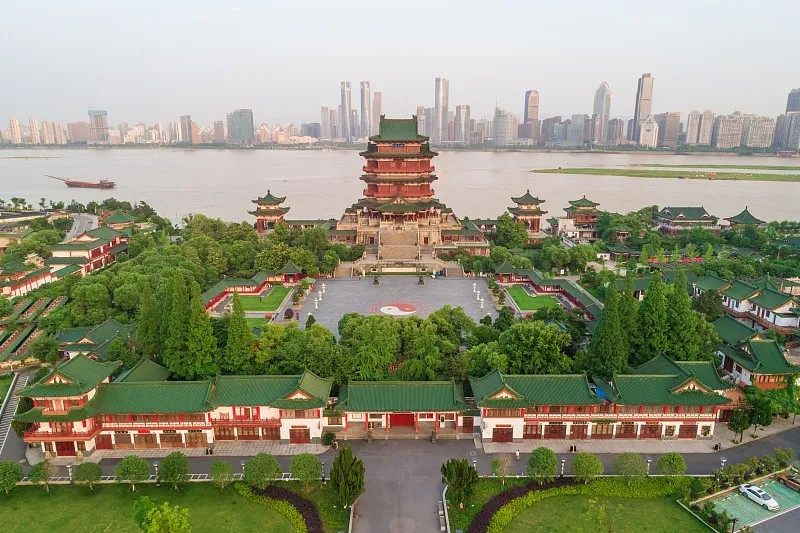Teng: (345, 115, 452, 223)
